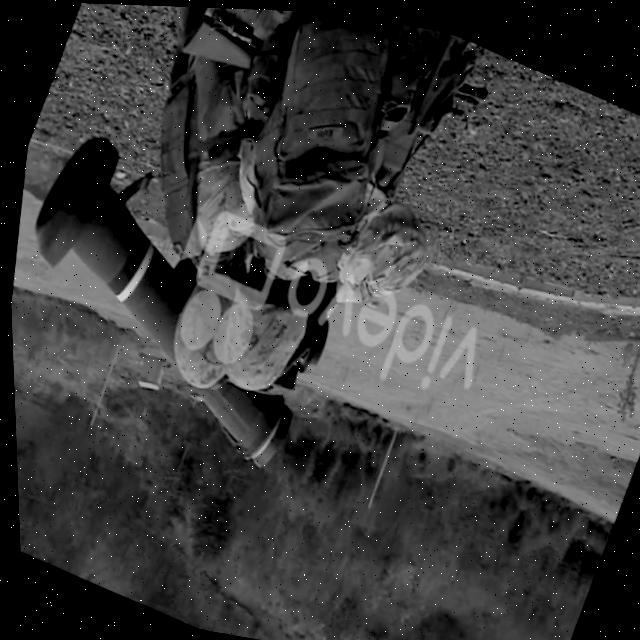rocket: (3, 114, 362, 474)
